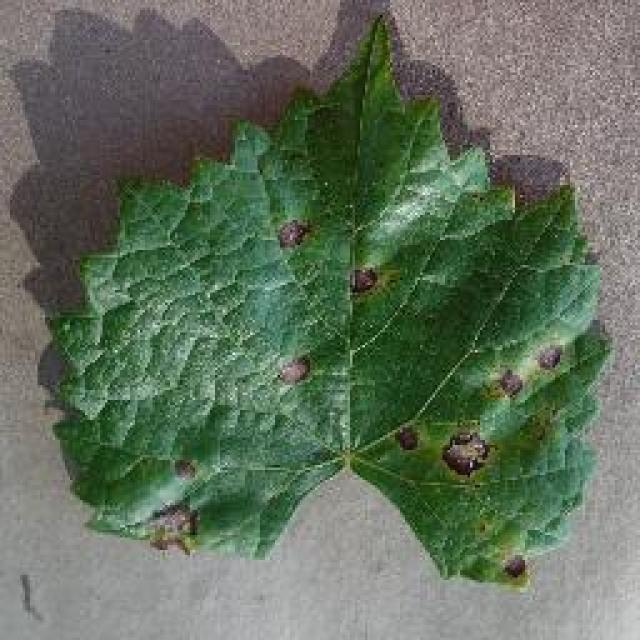Grape___Black_rot: (35, 9, 622, 595)
